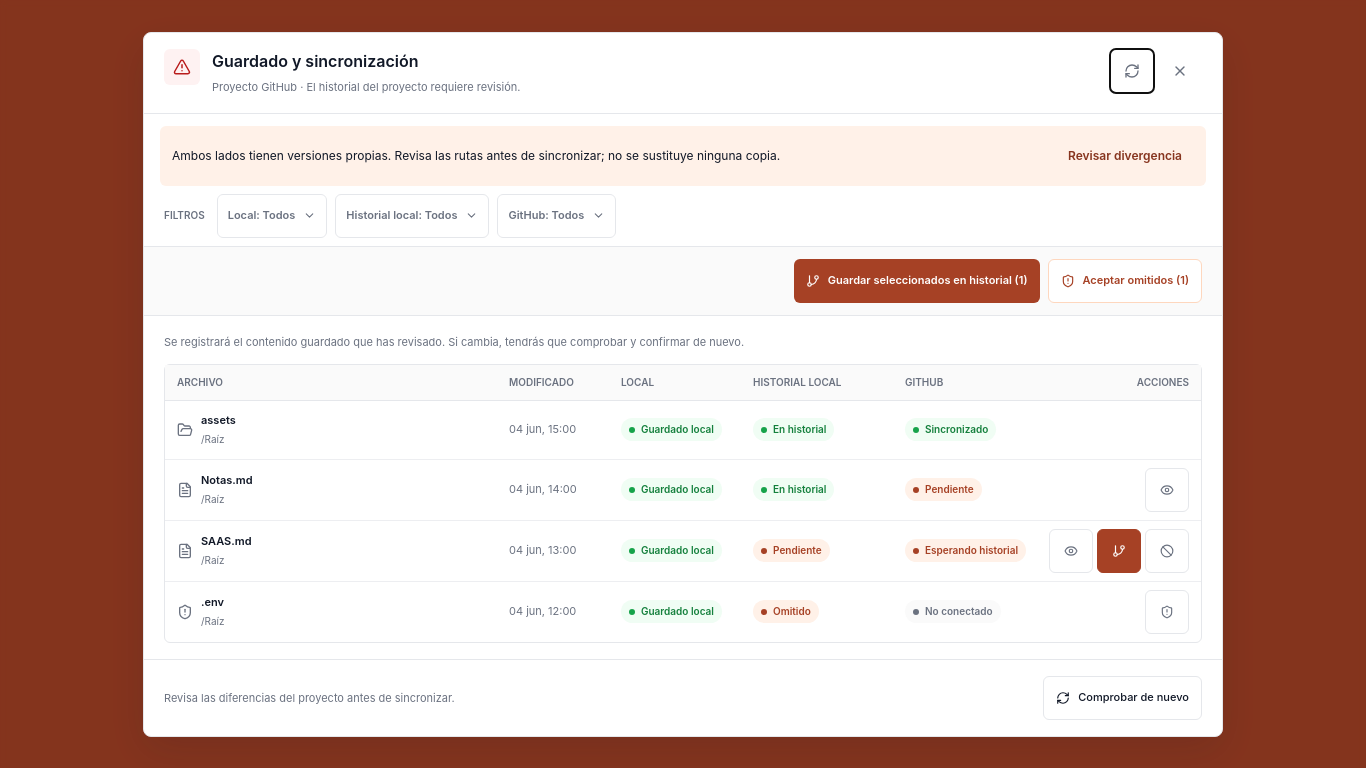
it: ExternalChangesDrawer › opens read-only graph review and suppresses push, pull and replacement promises while diverged
The image size is (1366, 768).
Click the button "Revisar divergencia". click: (1125,156)
box: [1056,134,1194,178]
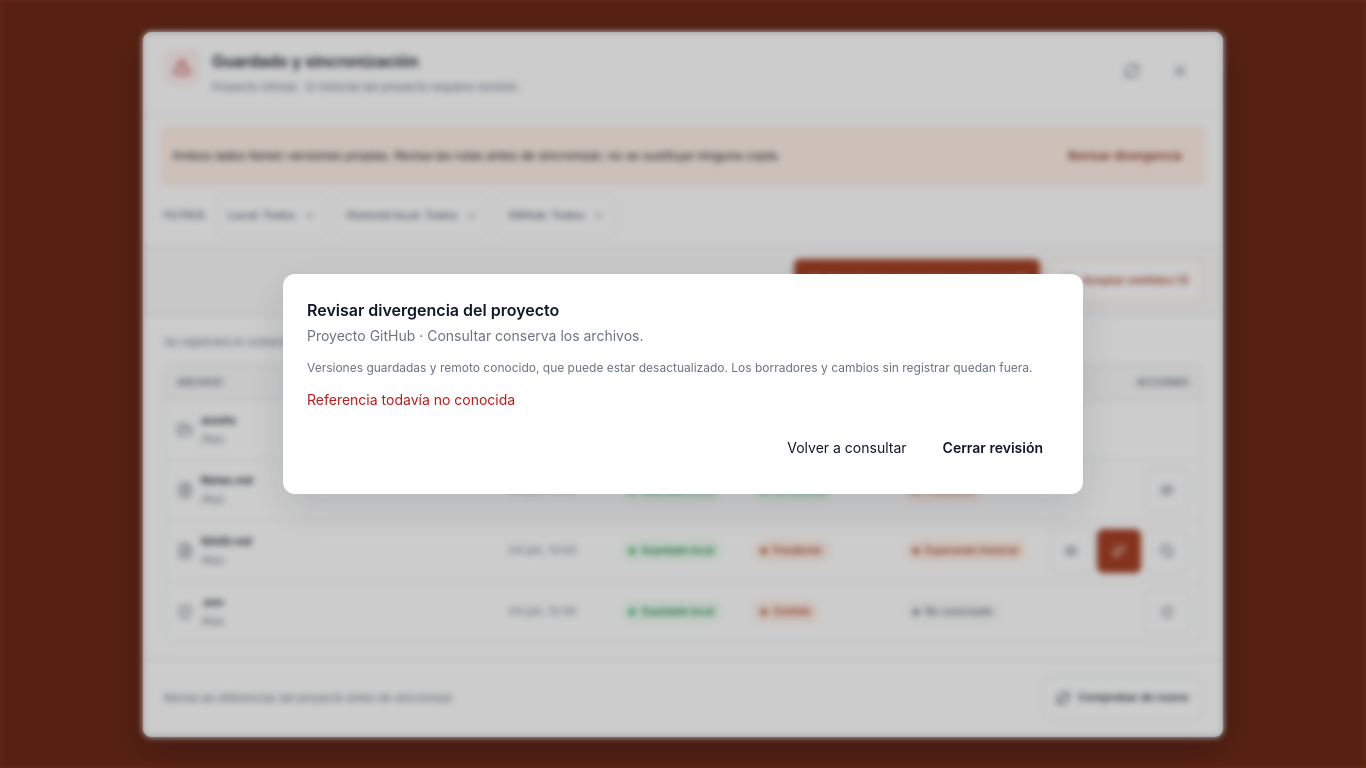
Result: the message reads "Referencia todavía no conocida" at [307,391,515,408]
Result: the button "Cerrar revisión" is enabled at [927,426,1059,470]
